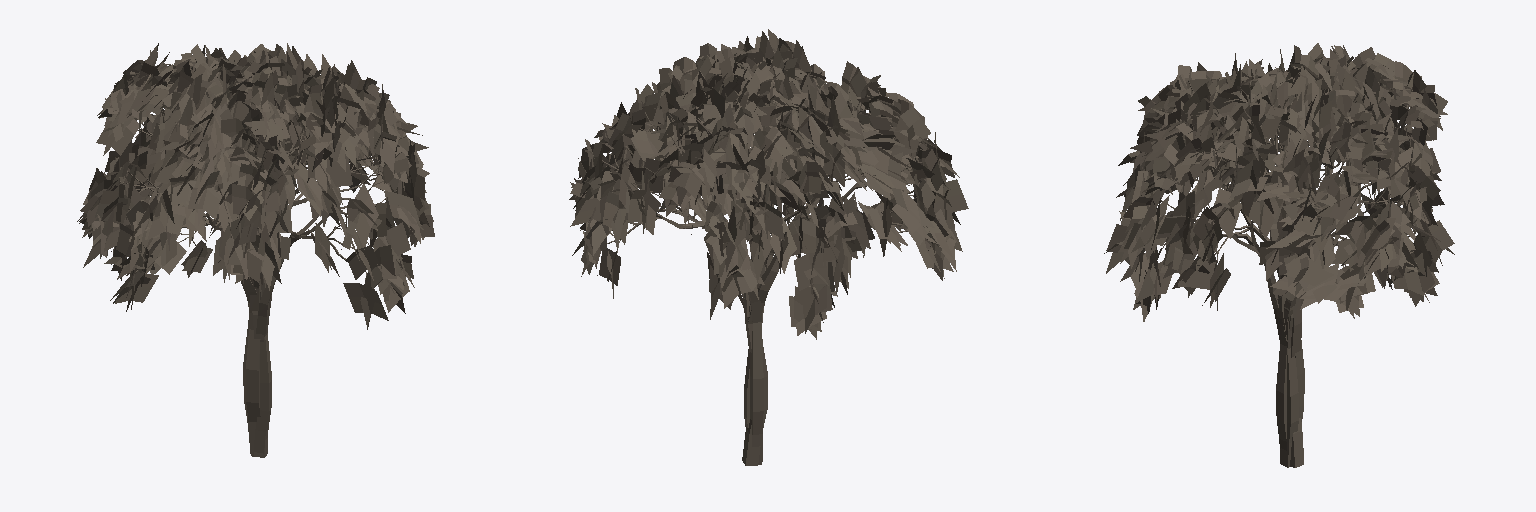
File: tree3.obj
3 renders of one model, left to right at view 1: azimuth 30°, elevation 25°; view 2: azimuth 150°, elevation 25°; view 3: azimuth 270°, elevation 25°, orthographic.
Parts seen in each view (by area): view 1: Gnarly_t.000_Gnarly_t.002; view 2: Gnarly_t.000_Gnarly_t.002; view 3: Gnarly_t.000_Gnarly_t.002.
Part boxes in pixels (x1,y1,x2,y2): Gnarly_t.000_Gnarly_t.002: (77,43,434,457); Gnarly_t.000_Gnarly_t.002: (569,29,968,465); Gnarly_t.000_Gnarly_t.002: (1104,43,1454,467).
Size of the model in its own units: 4.86 by 5.3 by 4.12.